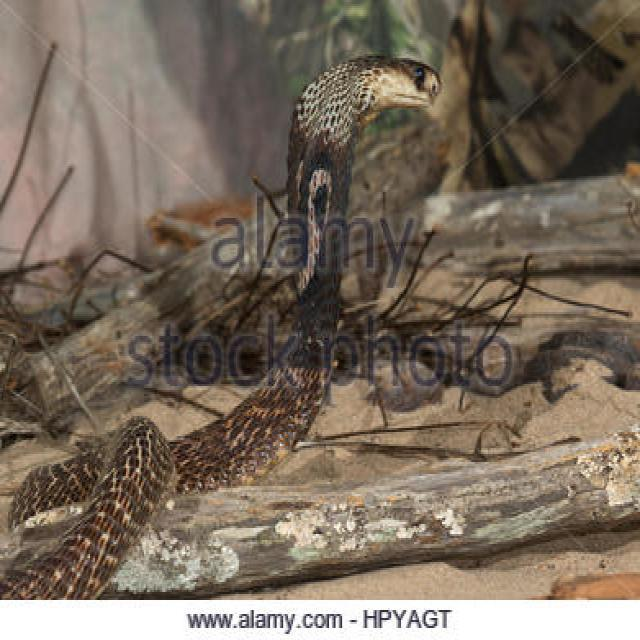Snake: (0, 50, 442, 598)
